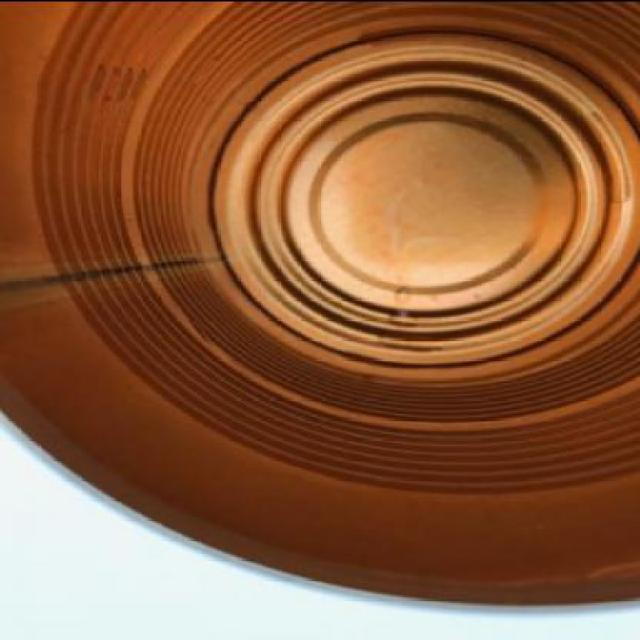METAL: (0, 1, 638, 613)
